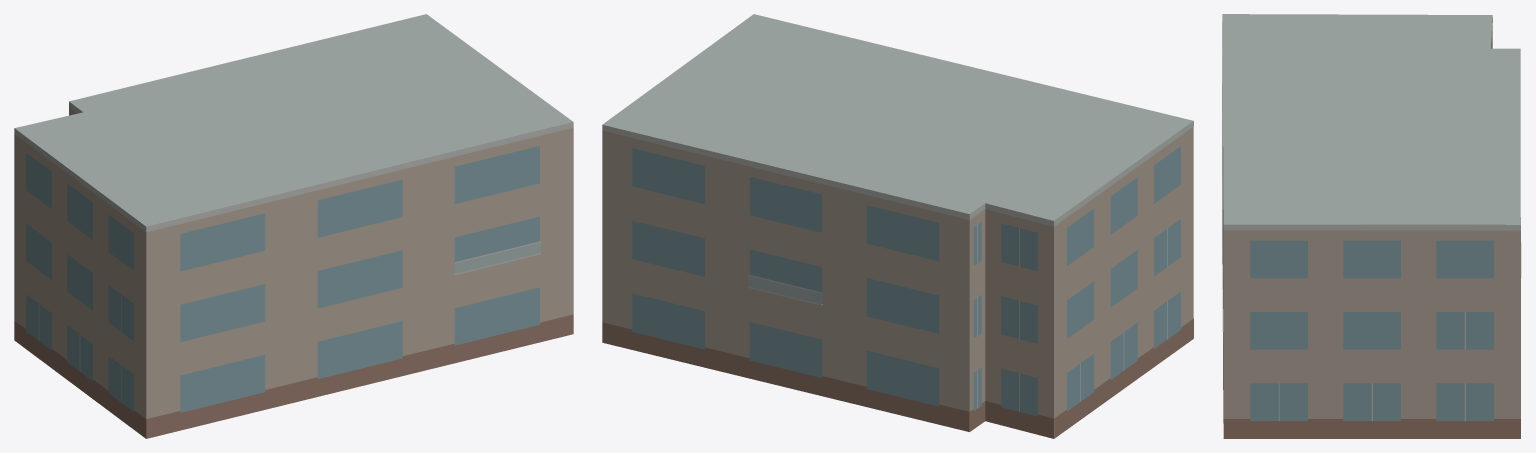
The model's file is survey-upis-32813353.glb.
3 views of the same model, side by side, from view 1: azimuth 30°, elevation 25°; view 2: azimuth 150°, elevation 25°; view 3: azimuth 270°, elevation 25° (orthographic). The views are drawn at different scales.
Visible parts, largest first — view 1: survey-upis-32813353.tmp; view 2: survey-upis-32813353.tmp; view 3: survey-upis-32813353.tmp.
Part boxes in pixels (<box>): survey-upis-32813353.tmp: <box>14,14,573,438</box>; survey-upis-32813353.tmp: <box>602,14,1193,438</box>; survey-upis-32813353.tmp: <box>1222,14,1521,438</box>.
Size of the model in its own units: 19.33 by 9.15 by 11.6.
